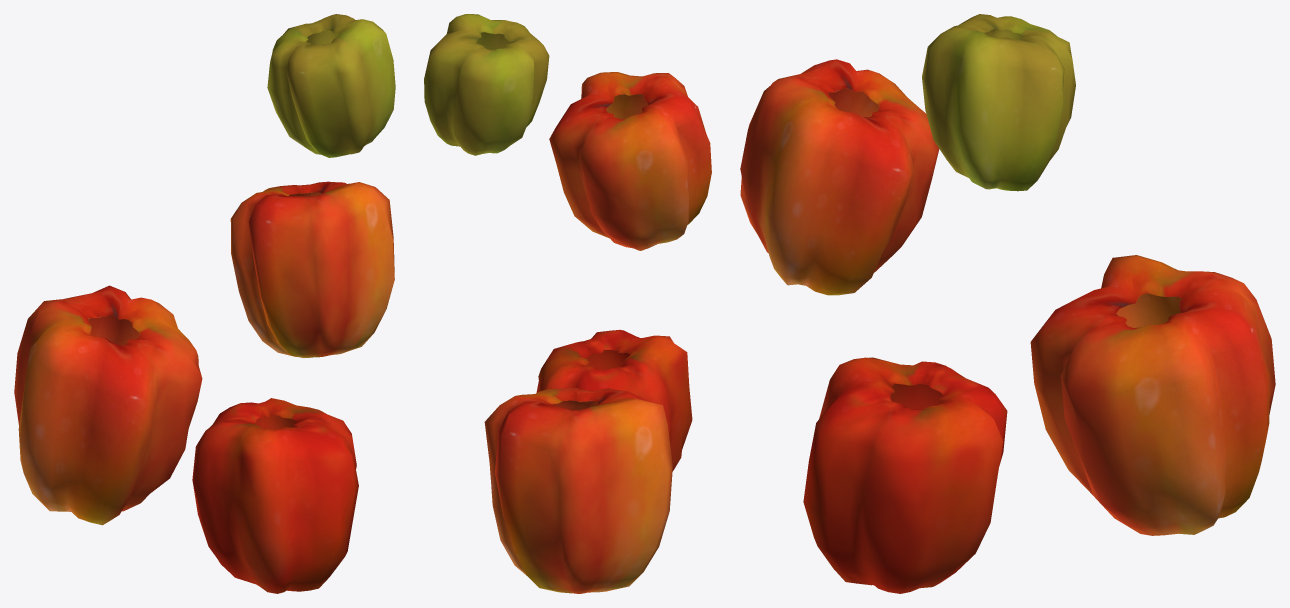
Rendered from VG07_3_fruitonly.dae.
3 renders of one model, left to right at view 1: azimuth 30°, elevation 25°; view 2: azimuth 150°, elevation 25°; view 3: azimuth 270°, elevation 25°, orthographic. The views are drawn at different scales.
Parts seen in each view (by area): view 1: VG07_007; view 2: VG07_007; view 3: VG07_007.
Part boxes in pixels (<box>): VG07_007: <box>14,14,395,593</box>; VG07_007: <box>424,14,711,593</box>; VG07_007: <box>740,14,1275,593</box>.
Bounding box in the file's own units: 0.1322 × 0.1674 × 0.2113.
Materials: 3 (3 with a texture image).
